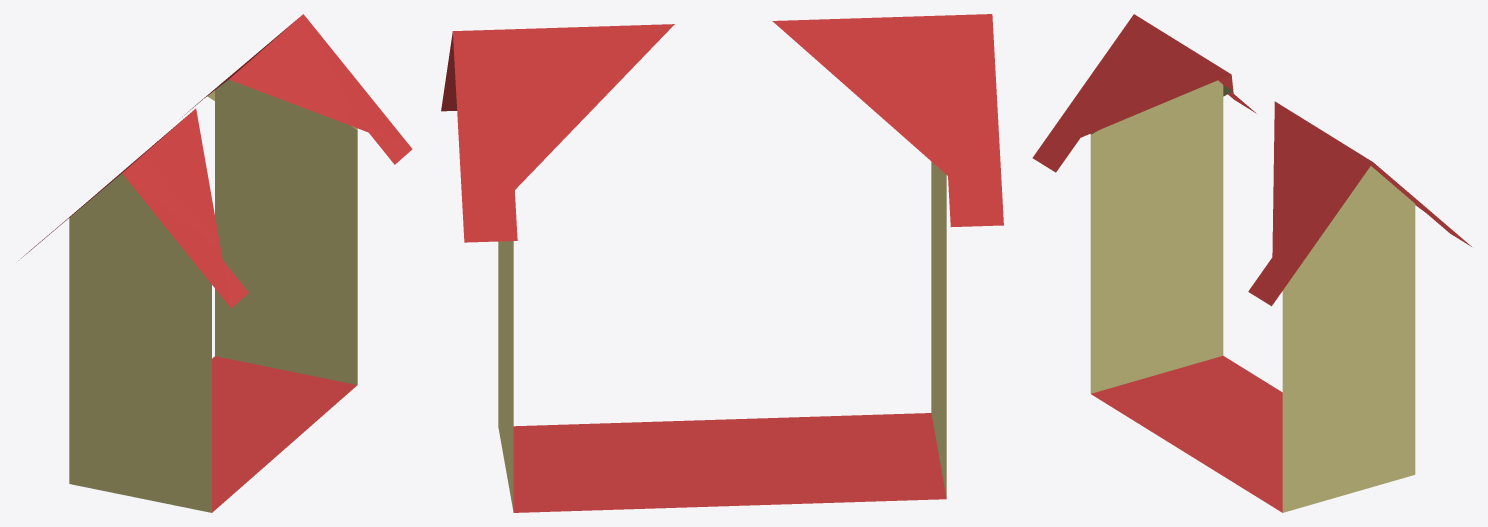
The picture shows the model from 3 angles, left to right: view 1: azimuth 30°, elevation 25°; view 2: azimuth 150°, elevation 25°; view 3: azimuth 270°, elevation 25°; orthographic projection. The views are drawn at different scales.
Bounding box in the file's own units: 11.66 × 10.53 × 9.11.
